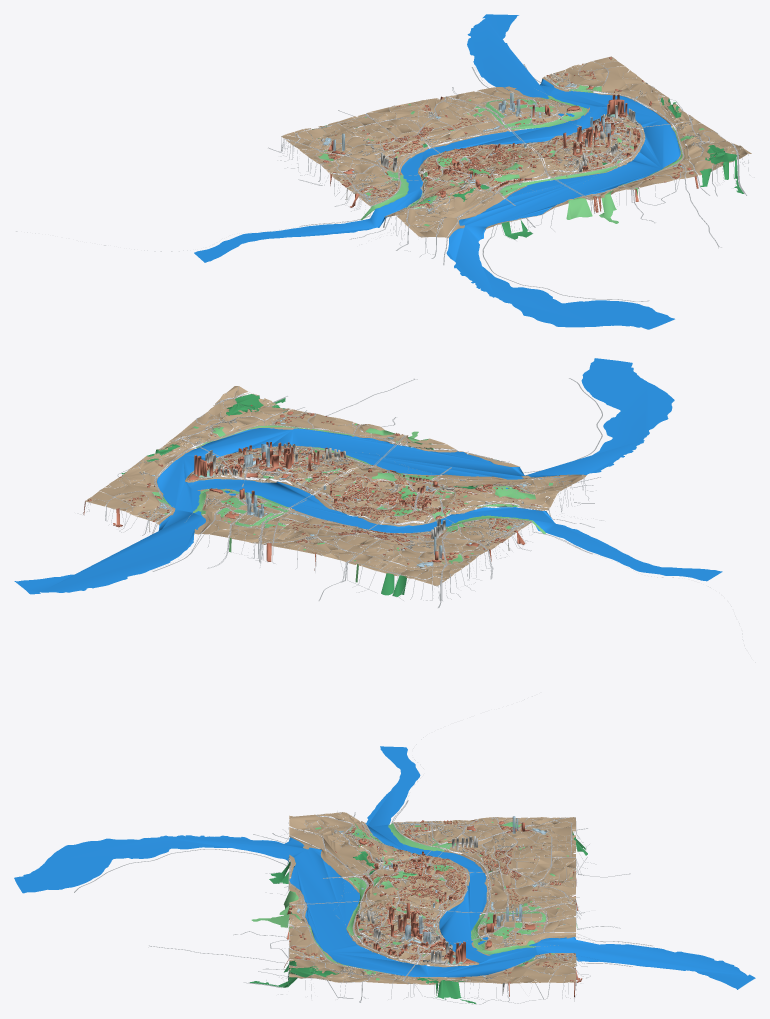
The model's file is output_soil_fill.glb.
The picture shows the model from 3 angles, top to bottom: view 1: azimuth 30°, elevation 25°; view 2: azimuth 150°, elevation 25°; view 3: azimuth 270°, elevation 25°; orthographic projection. The views are drawn at different scales.
Parts seen in each view (by area): view 1: dem_precise_soil_fill, water/9087399, water/12982622; view 2: dem_precise_soil_fill, water/9087399, water/12982622; view 3: dem_precise_soil_fill, water/9087399, water/12982622, forest/810049721.
Boxes of the visible parts, x1,y1,x2,y2 form: dem_precise_soil_fill: (281,56,751,238); water/9087399: (446,14,680,329); water/12982622: (194,106,607,262); dem_precise_soil_fill: (85,386,586,586); water/9087399: (14,358,674,594); water/12982622: (186,479,722,581); dem_precise_soil_fill: (289,812,575,984); water/9087399: (14,835,755,989); water/12982622: (365,746,489,963); forest/810049721: (417,978,476,1003).
Size of the model in its own units: 13107 by 628 by 13106.
